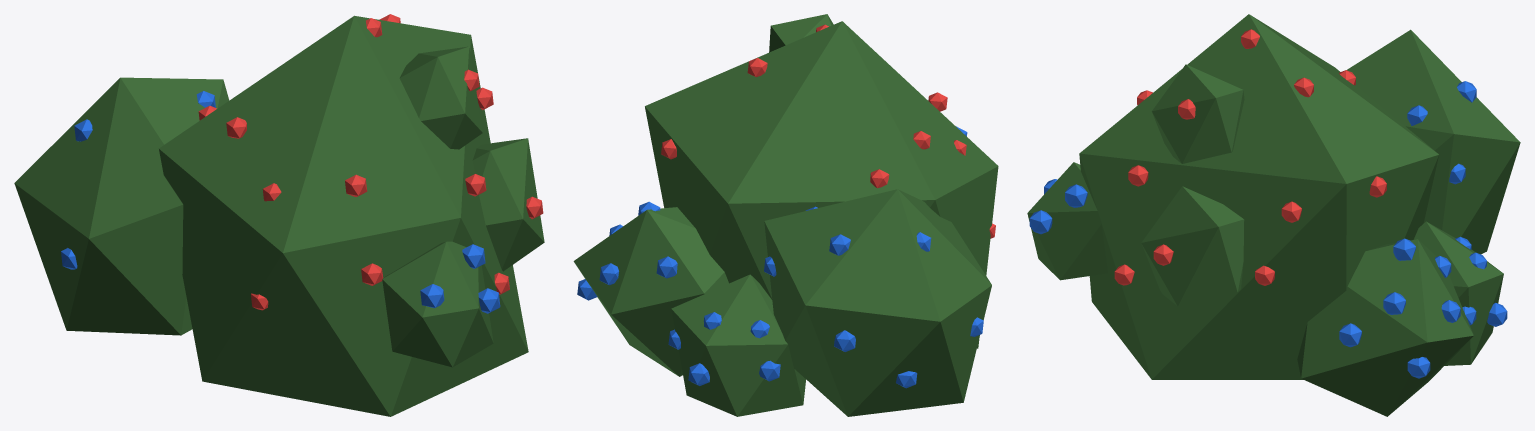
The model's file is Bushes.fbx.
The picture shows the model from 3 angles, left to right: view 1: azimuth 30°, elevation 25°; view 2: azimuth 150°, elevation 25°; view 3: azimuth 270°, elevation 25°; orthographic projection. The views are drawn at different scales.
Parts seen in each view (by area): view 1: Icosphere.004, Icosphere.001, Icosphere.002; view 2: Icosphere.004, Icosphere.002, Icosphere.001; view 3: Icosphere.004, Icosphere.002, Icosphere.001.
Boxes of the visible parts, <box> form: Icosphere.004: <box>14,15,544,416</box>; Icosphere.001: <box>198,14,543,310</box>; Icosphere.002: <box>61,91,500,313</box>; Icosphere.004: <box>573,14,998,416</box>; Icosphere.002: <box>577,126,983,388</box>; Icosphere.001: <box>661,24,995,238</box>; Icosphere.004: <box>1027,14,1520,416</box>; Icosphere.002: <box>1029,81,1507,378</box>; Icosphere.001: <box>1114,29,1386,285</box>.
Bounding box in the file's own units: 3.41 × 2.71 × 3.6.
